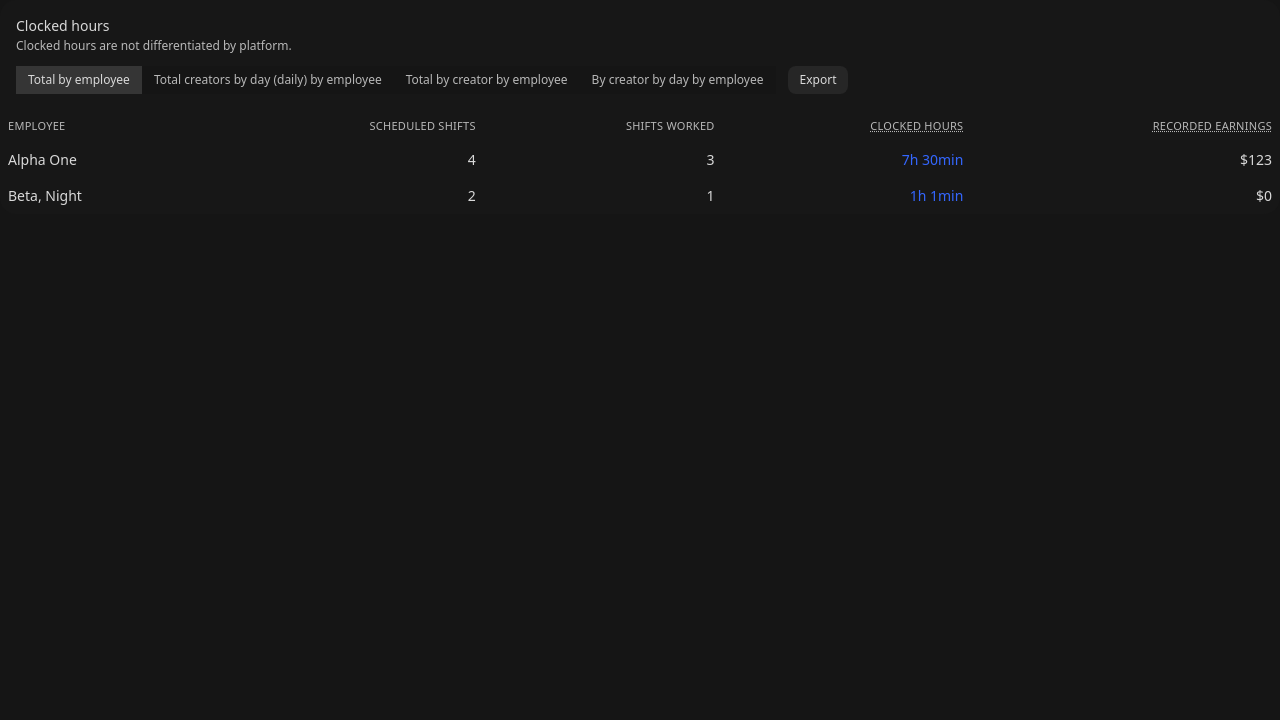
Test: ClockedHoursCard › opens that Employee's Clocked hours modal from its Clocked hours cell, over the report's range (w4-a)
Click the button "1h 1min": (937, 196) [910,186,963,206]
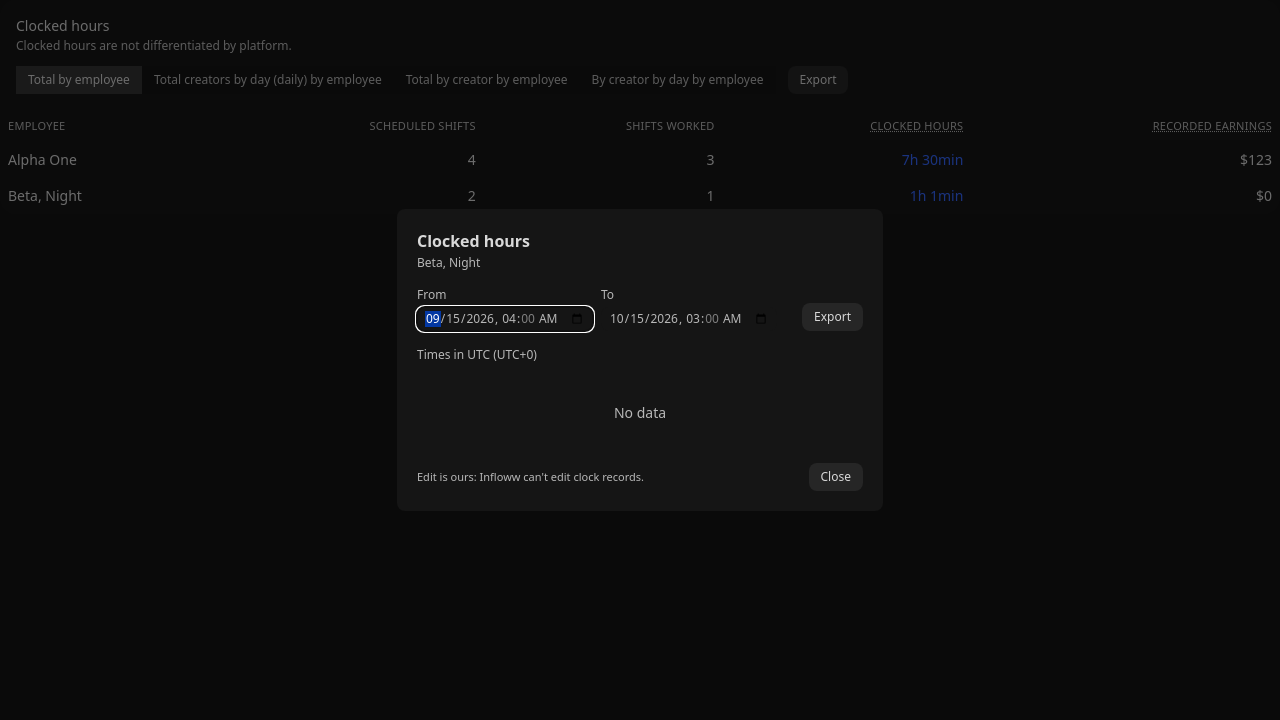
Expected: the text "Beta, Night" is shown, [417,254,480,271]
Expected: the text "No data" is shown, [614,403,666,422]
Click the button "Close": (836, 477) [808,463,863,491]
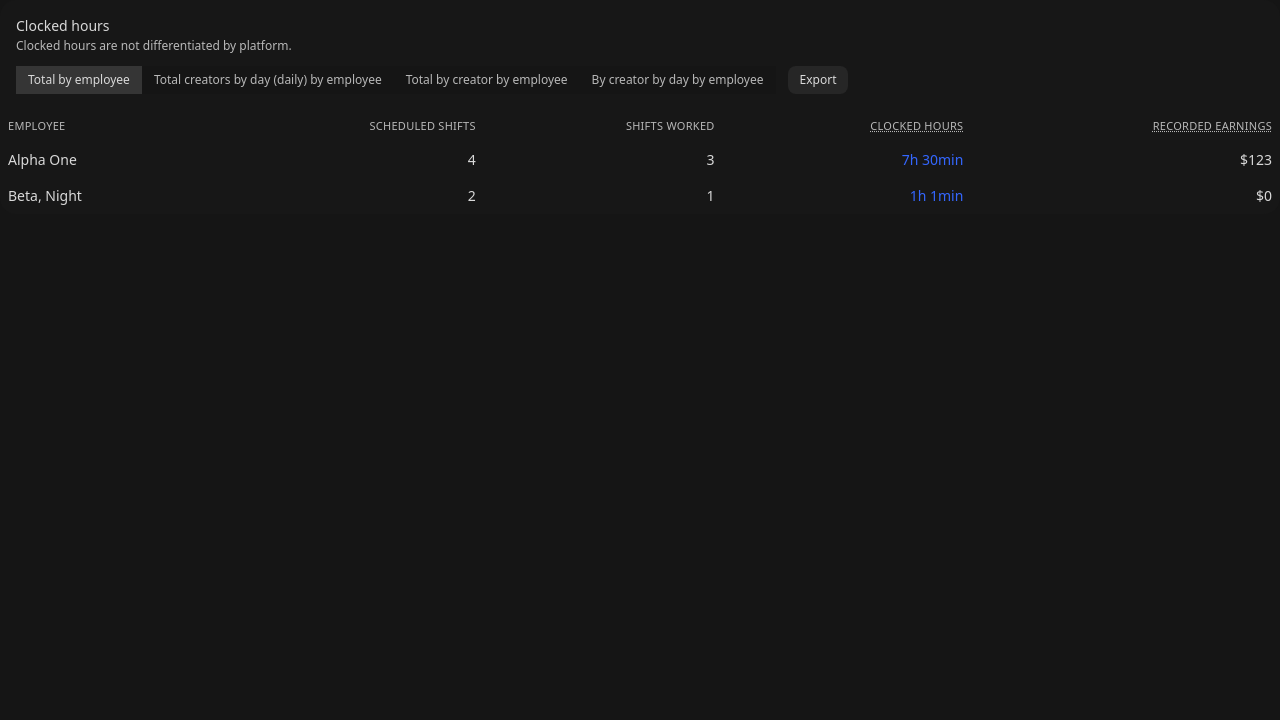
Expected: the dialog is gone
